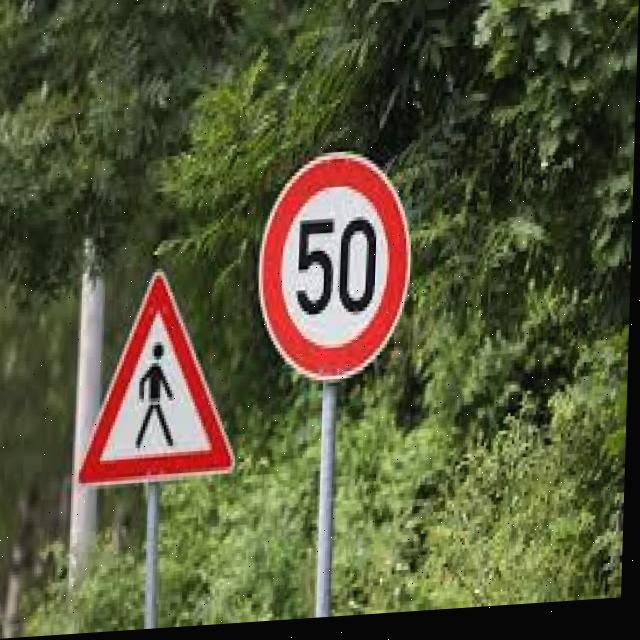Speed limit 50: (254, 147, 418, 393)
